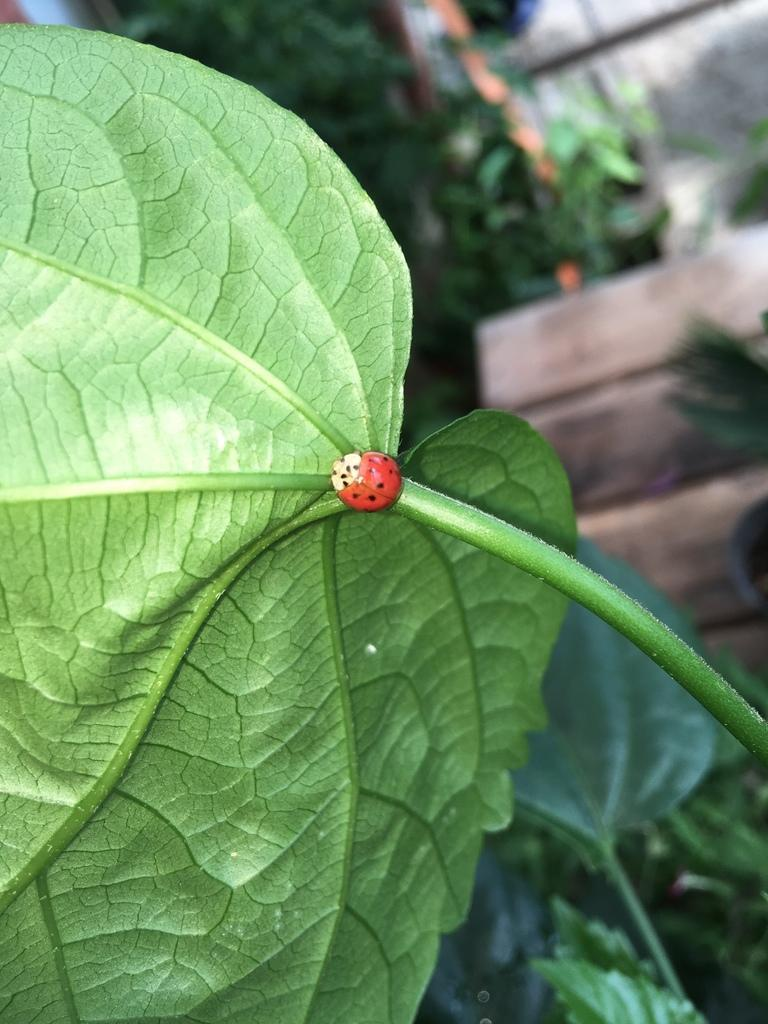ladybug: (327, 449, 407, 516)
